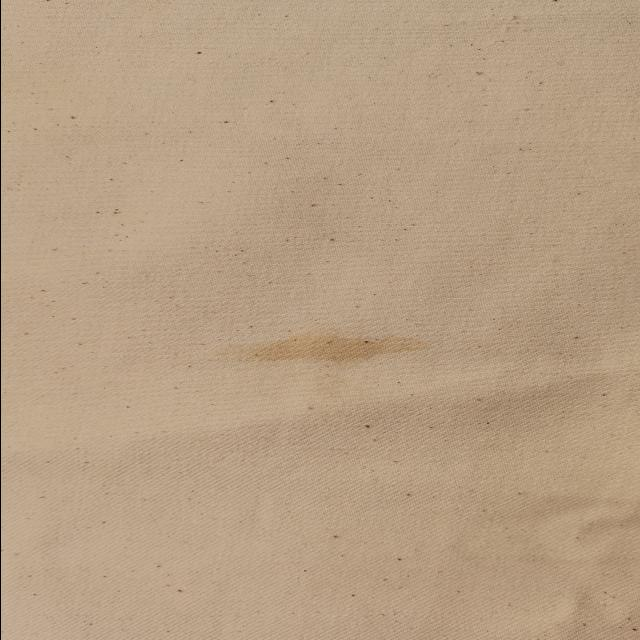taaaches: (212, 312, 430, 382)
